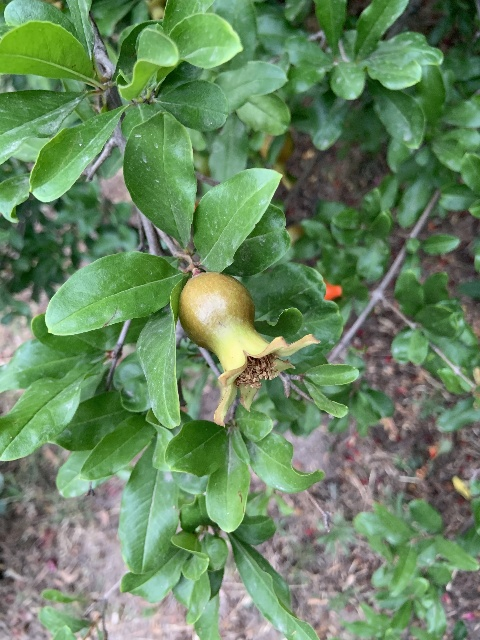early-fruit: (179, 272, 321, 426)
